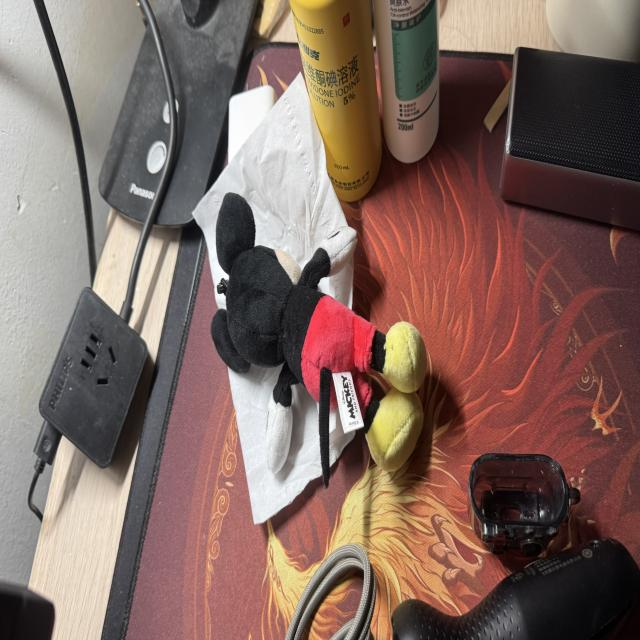mickey: (212, 194, 426, 486)
tissue: (194, 75, 345, 284)
